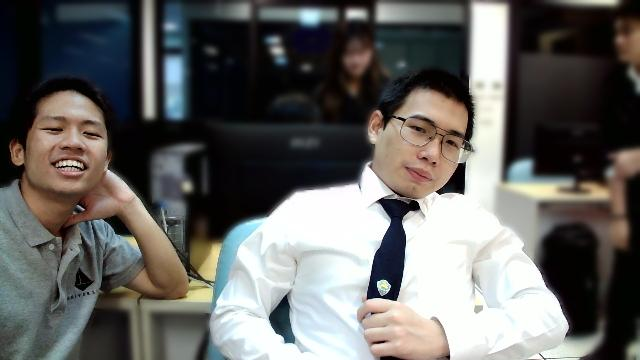fokus: (372, 81, 470, 196)
